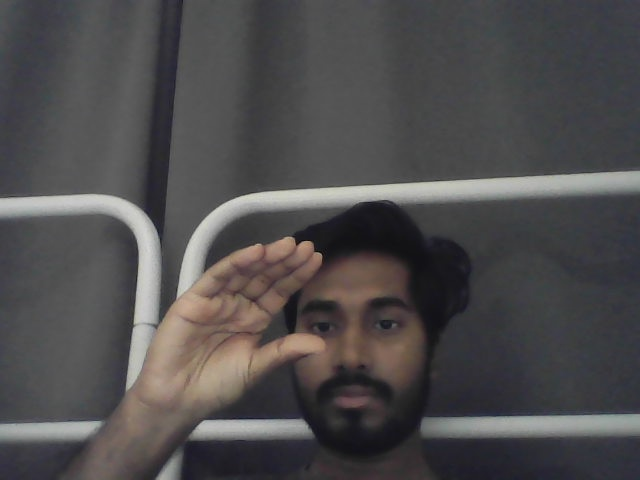no: (140, 234, 326, 415)
